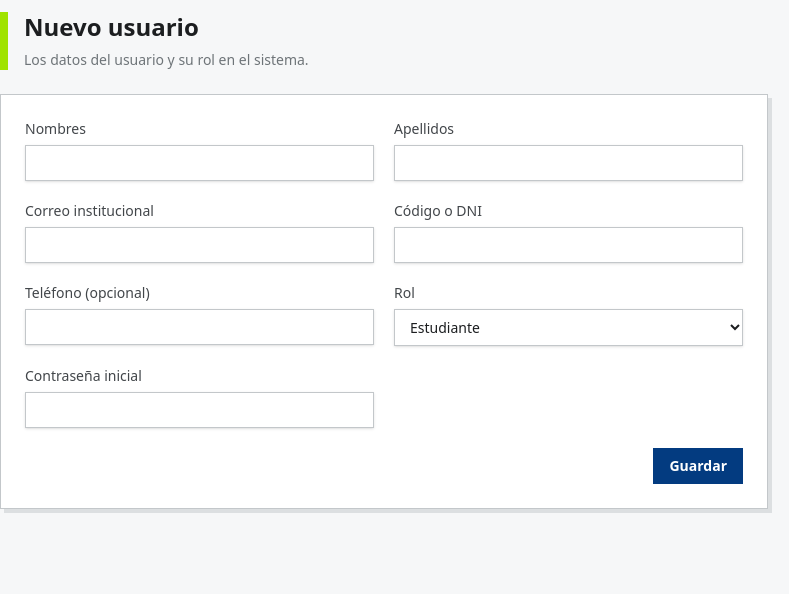
Test case: UserFormPage › muestra el mensaje del backend si el correo ya existe
The image size is (789, 594).
Type "Ana" into the field labelled "Nombres" at (200, 163), box [25,145,374,181]
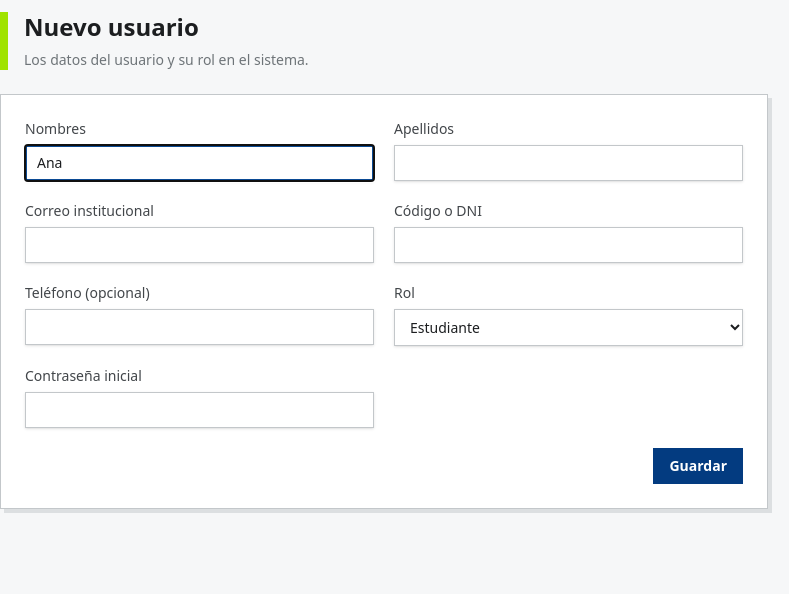
Type "Pérez" into the field labelled "Apellidos" at (568, 163), box [394,145,743,181]
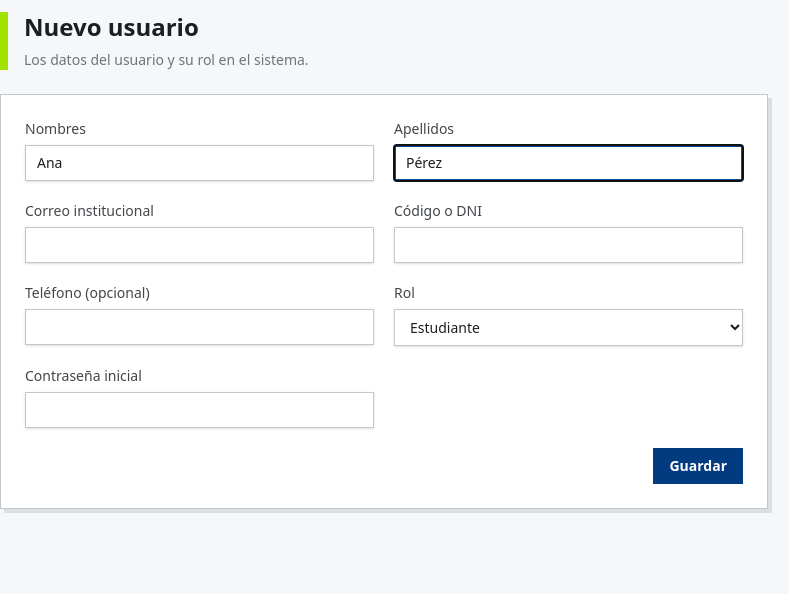
Type "ana@epcc.unsa.edu.pe" into the field labelled "Correo institucional" at (200, 245), box [25,227,374,263]
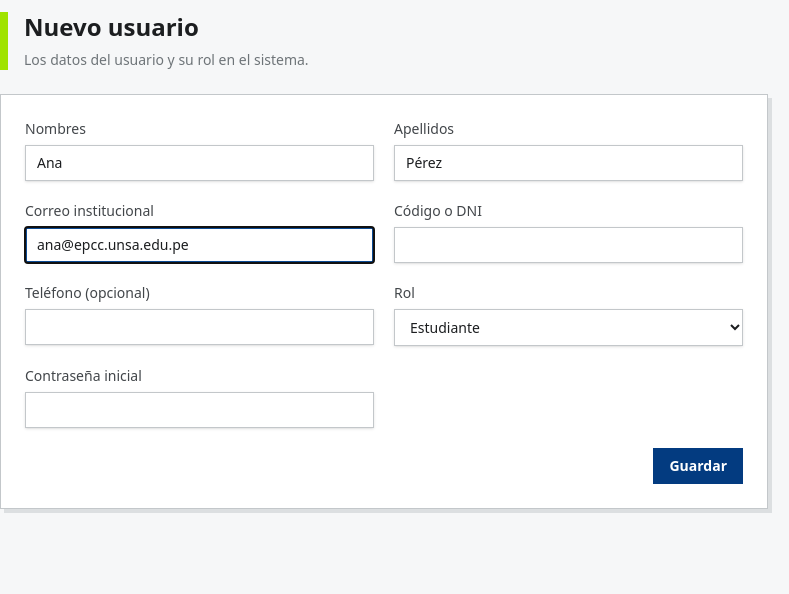
Type "20201234" into the field labelled "Código o DNI" at (568, 245), box [394,227,743,263]
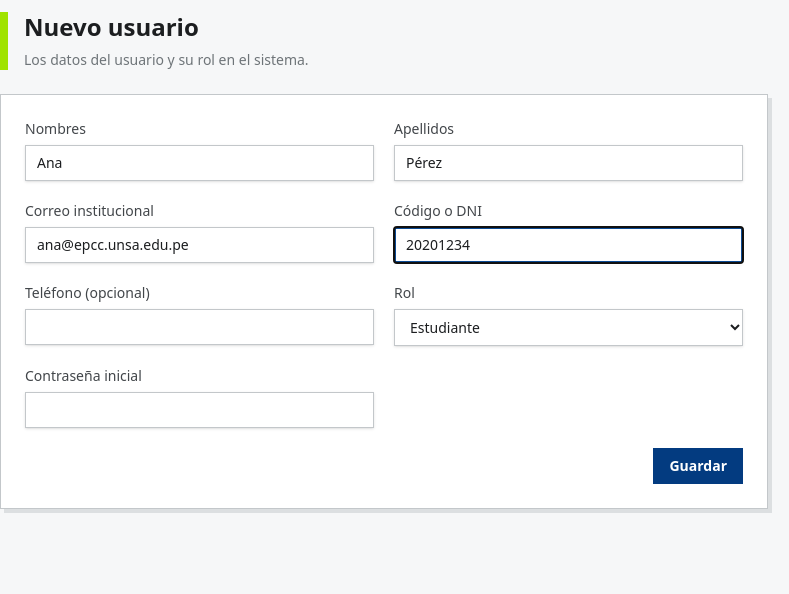
Type "Clave1234" into the password field labelled "Contraseña inicial" at (200, 410), box [25,392,374,428]
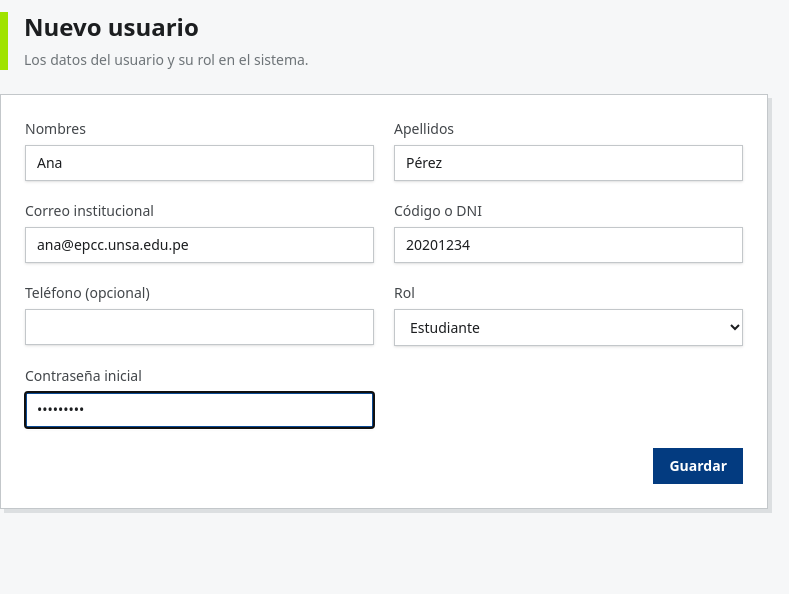
Click the button "Guardar" at (698, 466), box [654,448,743,484]
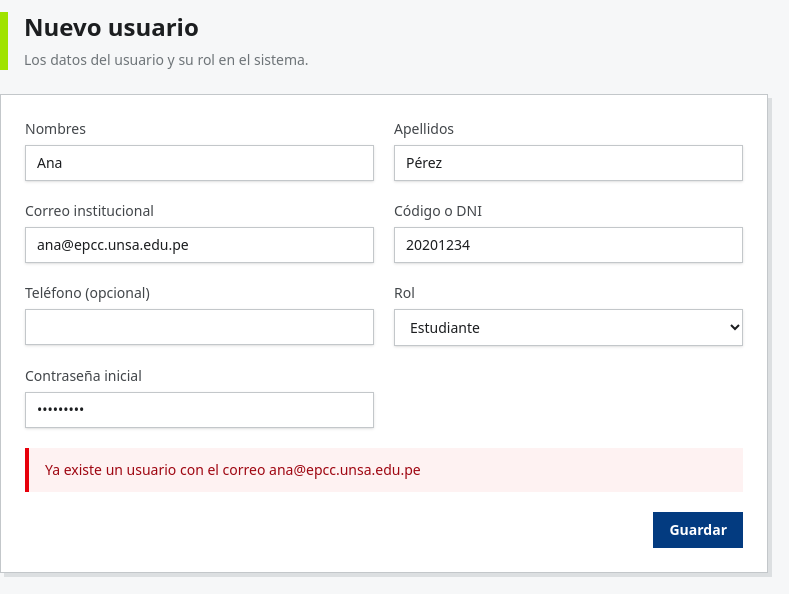
Now the text "Ya existe un usuario con el correo ana@epcc.unsa.edu.pe" is shown, box [25,448,743,492]
